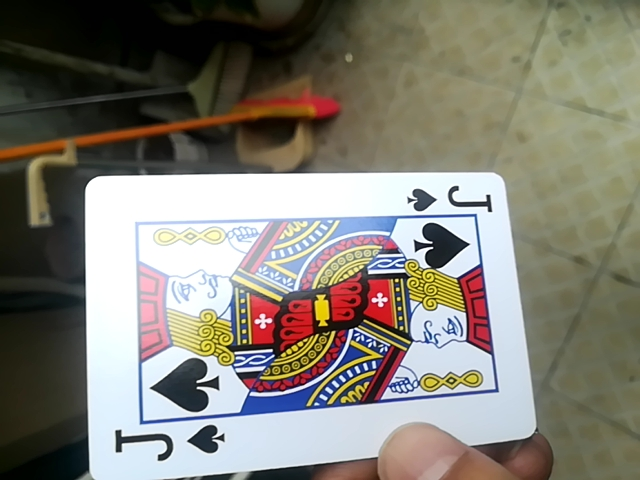ht j: (81, 173, 535, 479)
